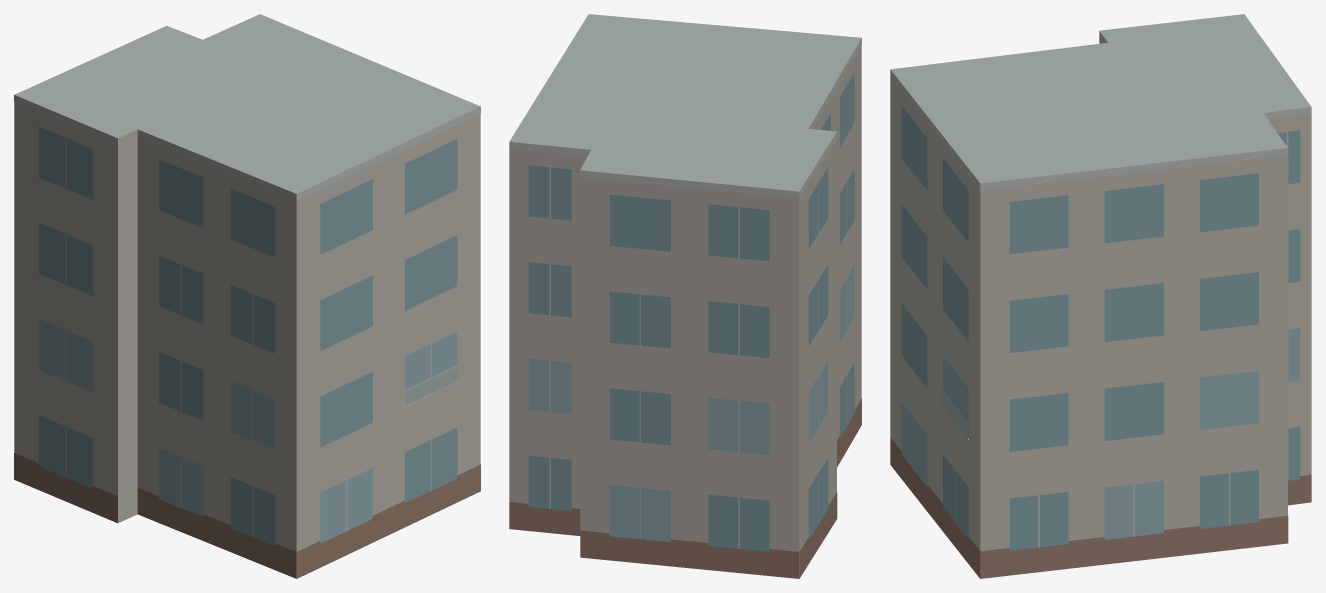
Rendered from survey-upis-32689949.glb.
3 renders of one model, left to right at view 1: azimuth 30°, elevation 25°; view 2: azimuth 150°, elevation 25°; view 3: azimuth 270°, elevation 25°, orthographic. The views are drawn at different scales.
Parts seen in each view (by area): view 1: survey-upis-32689949.tmp; view 2: survey-upis-32689949.tmp; view 3: survey-upis-32689949.tmp.
Part boxes in pixels (x1=…): survey-upis-32689949.tmp: x1=14, y1=14, x2=480, y2=578; survey-upis-32689949.tmp: x1=509, y1=14, x2=861, y2=578; survey-upis-32689949.tmp: x1=890, y1=14, x2=1311, y2=578.
Bounding box in the file's own units: 12.37 × 13.45 × 12.99.
